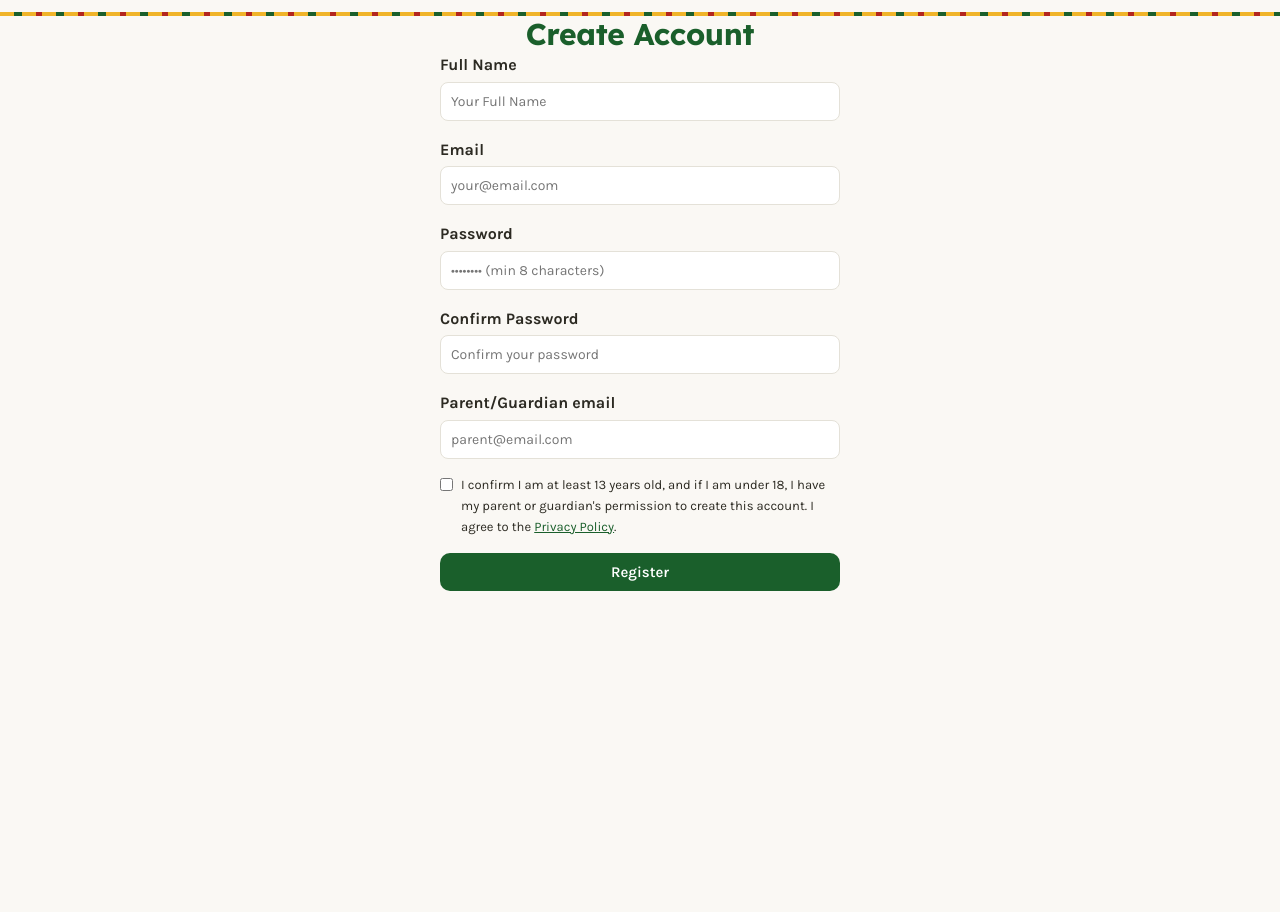
Test case: Register › shows the server-waking-up message on a timeout instead of a generic failure
Type "Test Student" into the field labelled "Full Name" at (640, 101), box [440,82,840,121]
Type "student@test.com" into the field labelled "Email" at (640, 186), box [440,166,840,205]
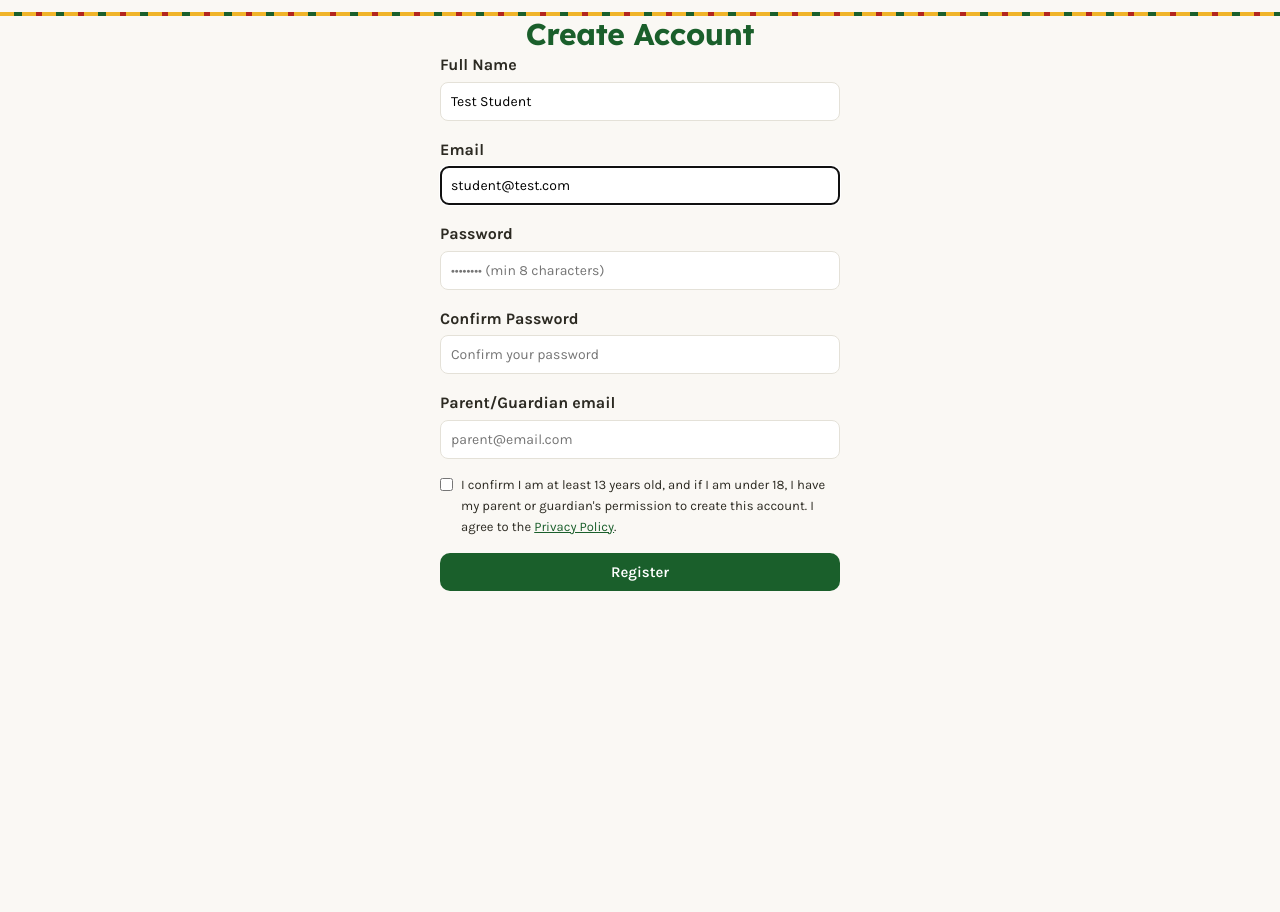
Type "password123" into the password field labelled "Password" at (640, 270), box [440,251,840,290]
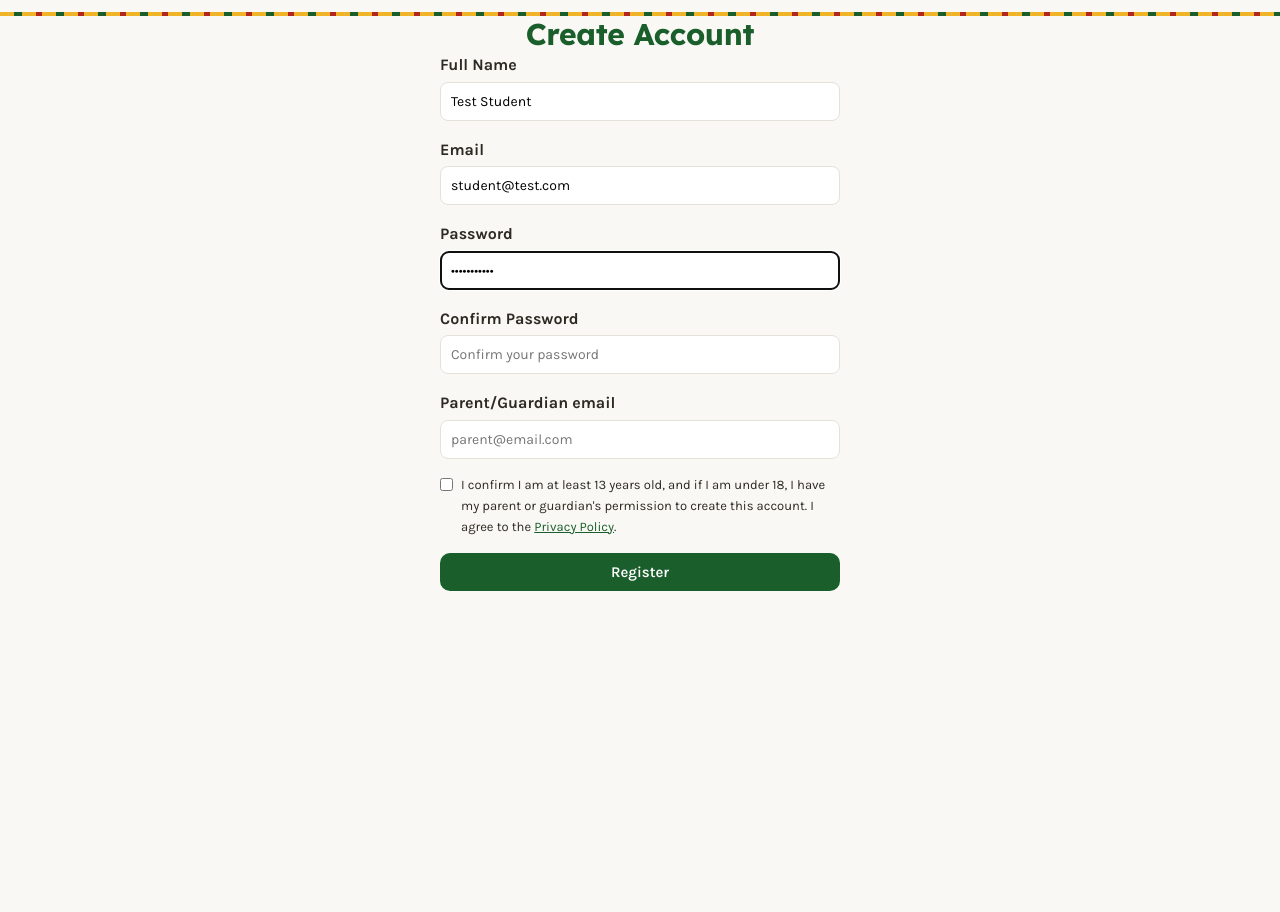
Type "password123" into the password field labelled "Confirm Password" at (640, 355), box [440,335,840,374]
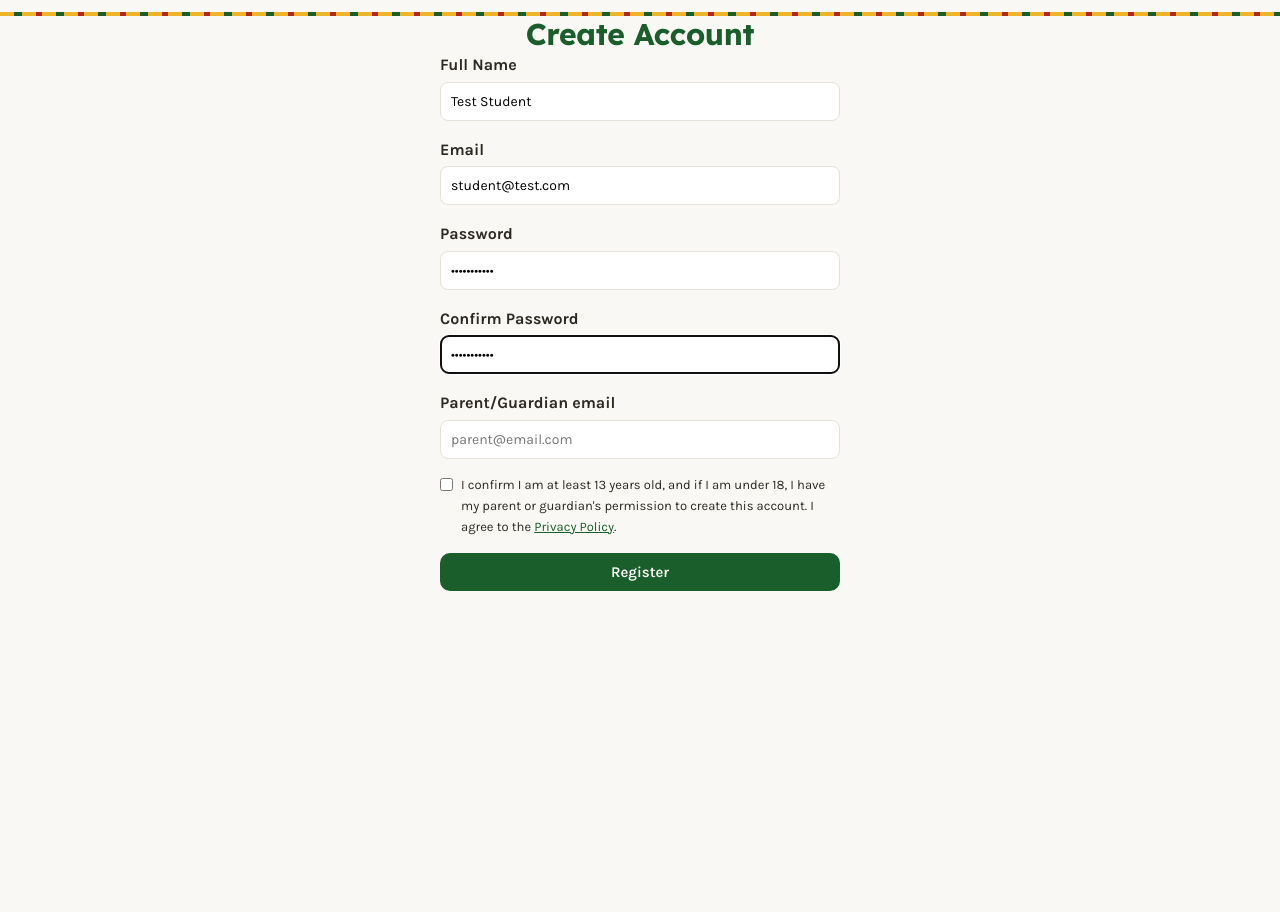
Type "guardian@test.com" into the field labelled "Parent/Guardian email" at (640, 440), box [440,420,840,459]
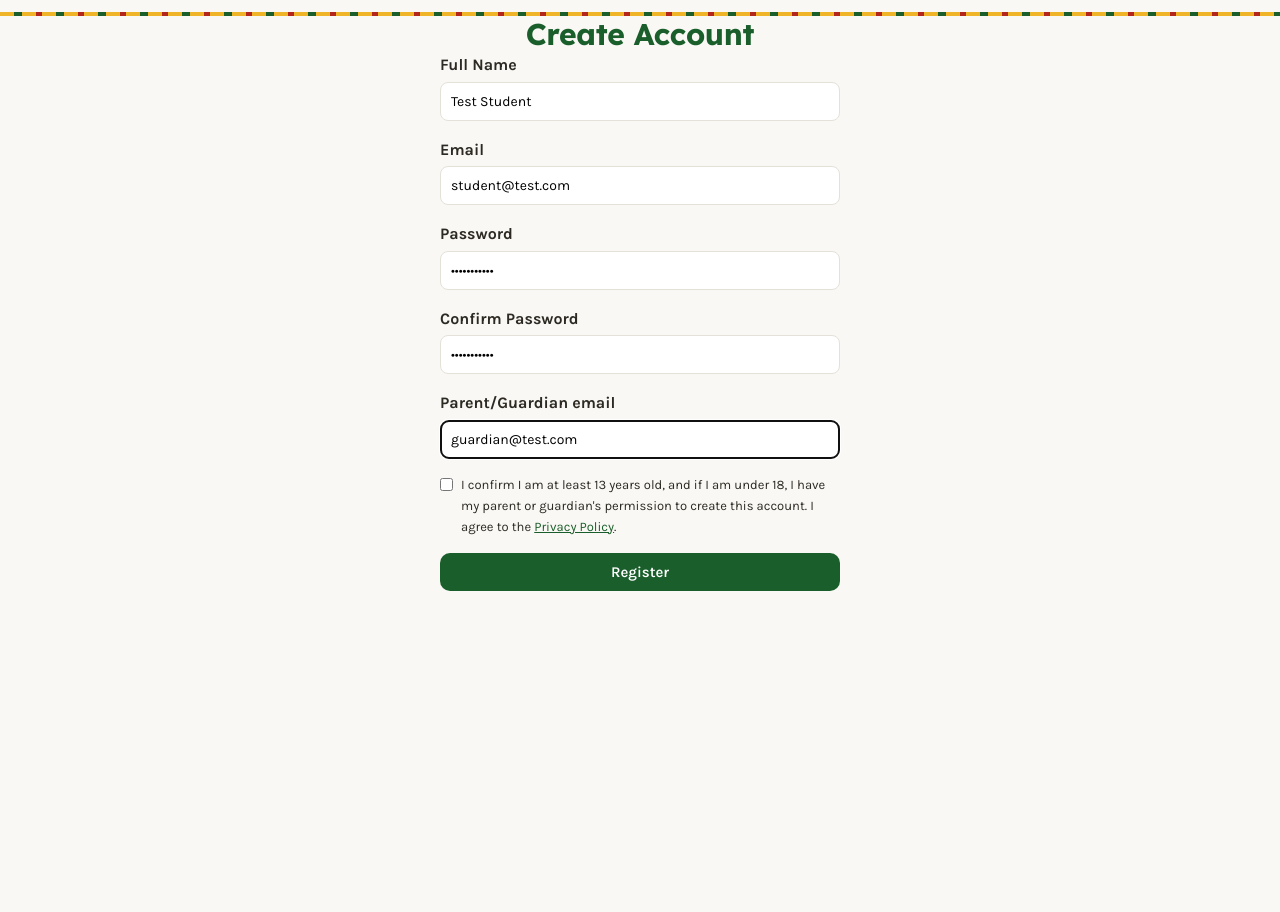
Click the checkbox at (446, 484), box [440,478,453,491]
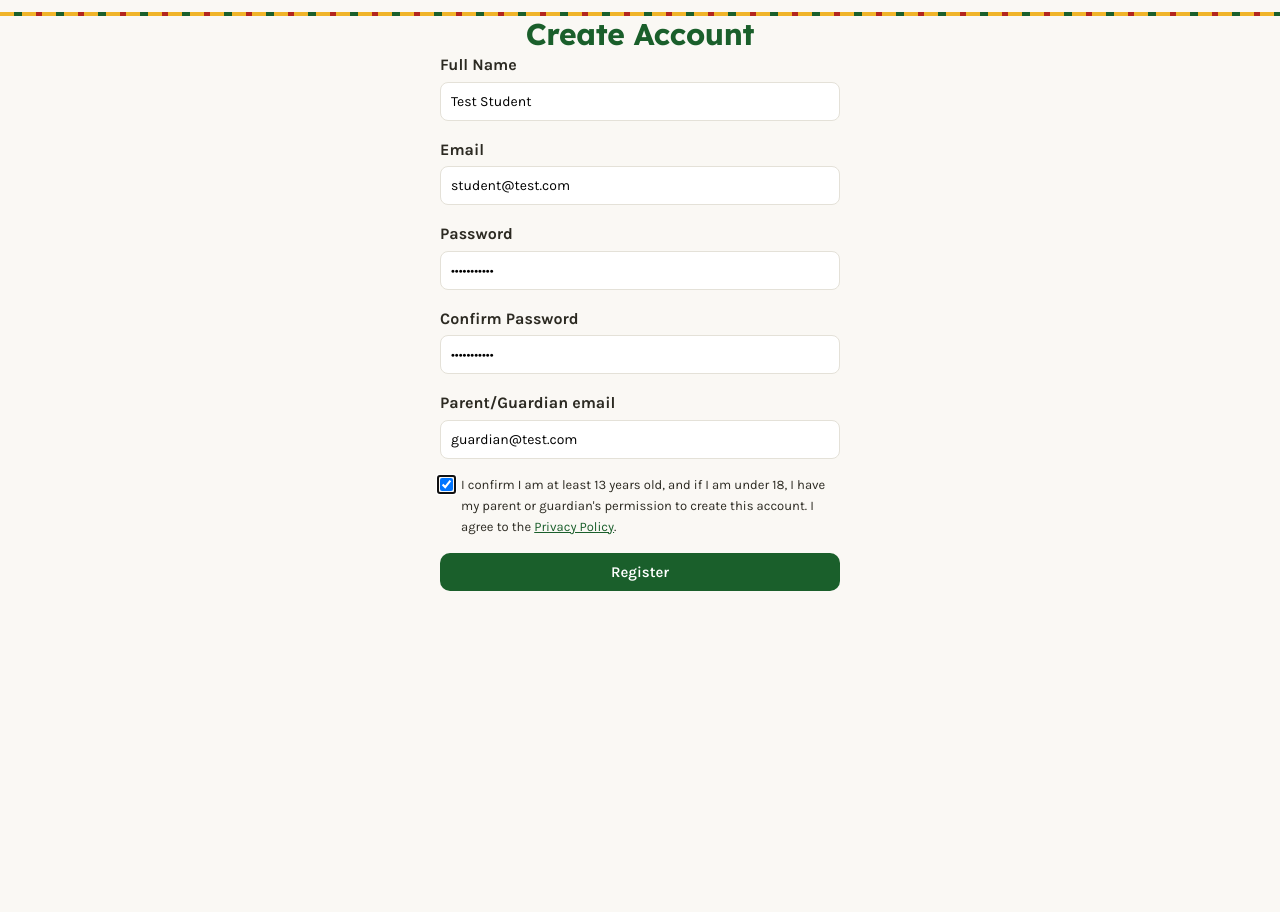
Click the button "Register" at (640, 572), box [440,553,840,591]
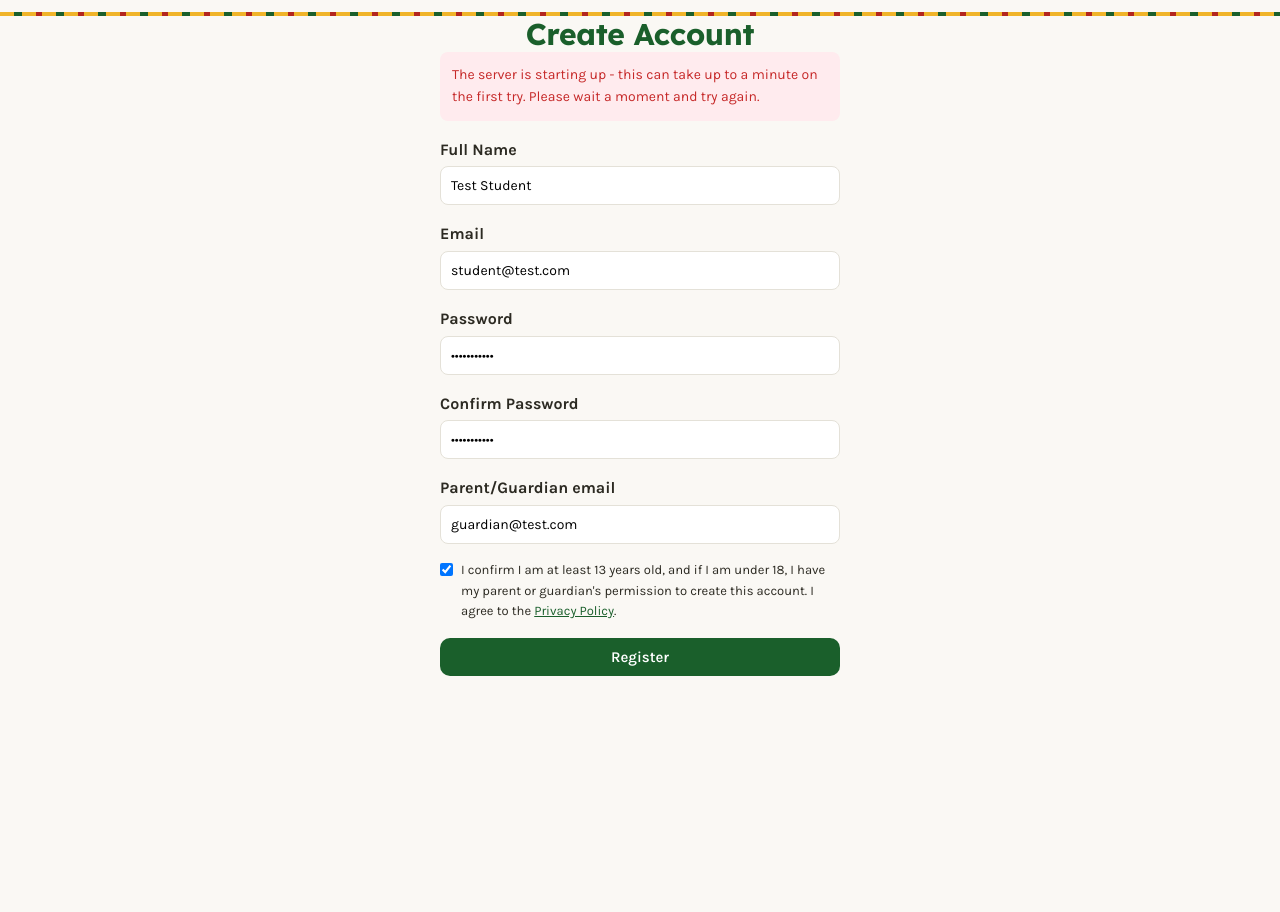
Expected: the text "server is starting up" is shown, [452,66,818,105]
